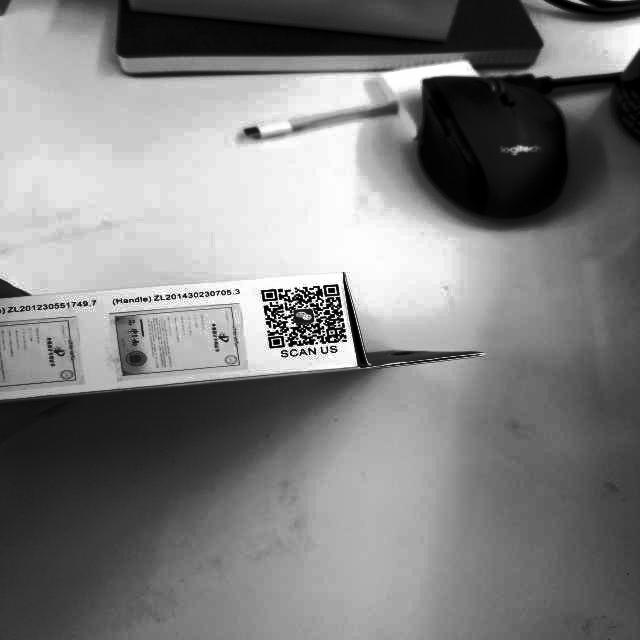qr_code: (249, 279, 363, 358)
